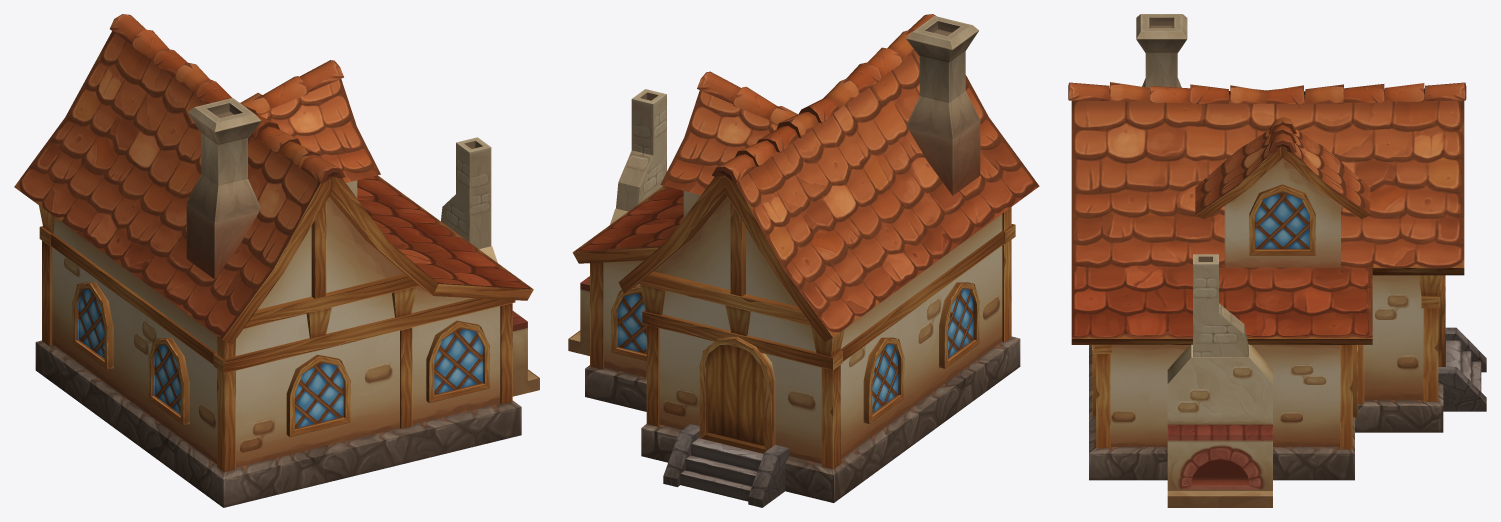
Rendered from BakerHouse.fbx.
3 views of the same model, side by side, from view 1: azimuth 30°, elevation 25°; view 2: azimuth 150°, elevation 25°; view 3: azimuth 270°, elevation 25° (orthographic). The views are drawn at different scales.
Parts seen in each view (by area): view 1: Baker_house, Chimney; view 2: Baker_house, Chimney; view 3: Baker_house, Chimney.
Boxes of the visible parts, left/top/right/bottom form: Baker_house: left=14, top=14, right=533, bottom=507; Chimney: left=441, top=137, right=539, bottom=396; Baker_house: left=572, top=14, right=1039, bottom=507; Chimney: left=568, top=89, right=666, bottom=355; Baker_house: left=1068, top=14, right=1486, bottom=480; Chimney: left=1167, top=254, right=1272, bottom=507.
Size of the model in its own units: 3.8 by 3.54 by 3.97.
1 material, 1 textured.
